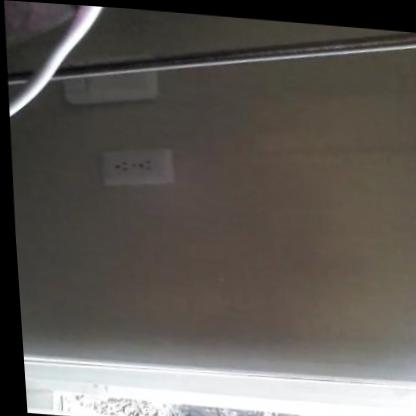OUTLET: (95, 139, 178, 191)
